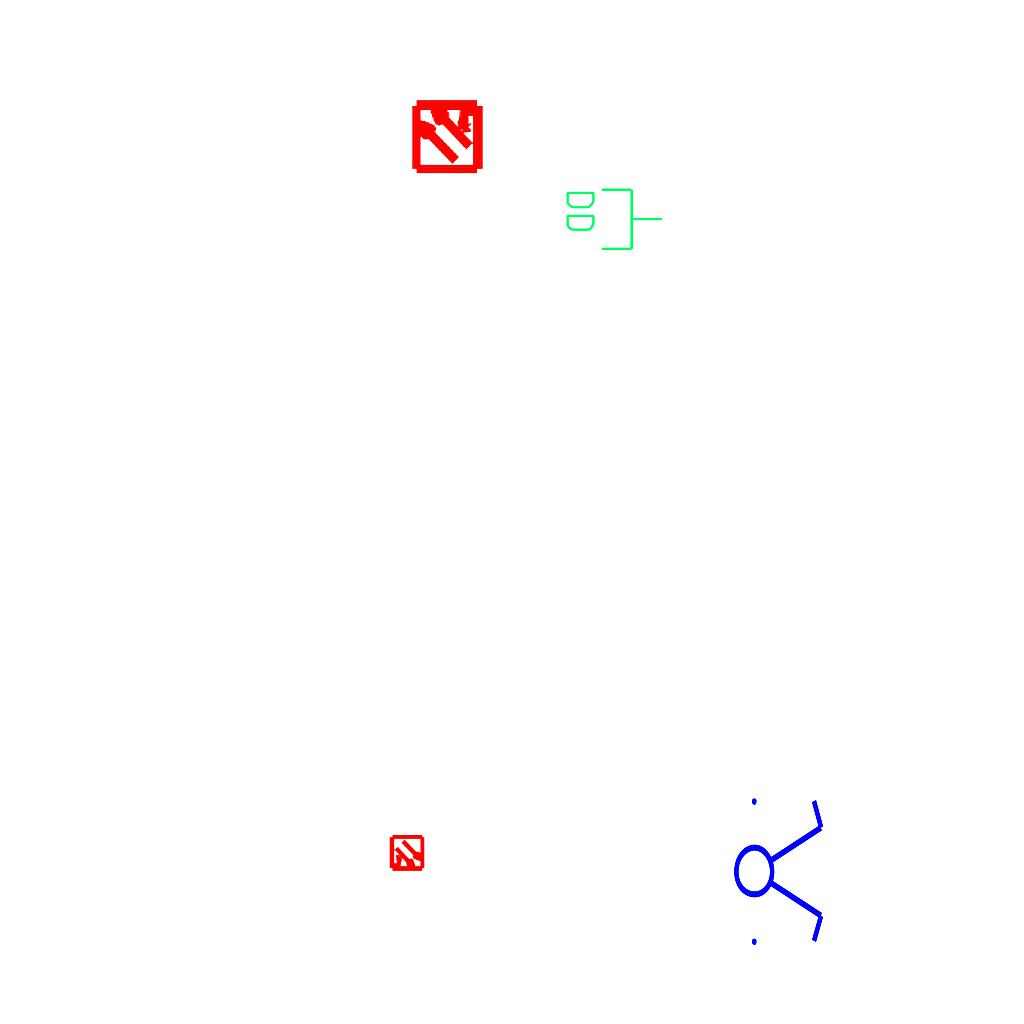Datenanschluss_zweifach: (562, 184, 665, 253)
OT_Multisensormelder_(Kombination_RMO_WMD): (391, 78, 504, 191), (379, 826, 435, 882)
Serienschalter: (732, 786, 828, 954)
